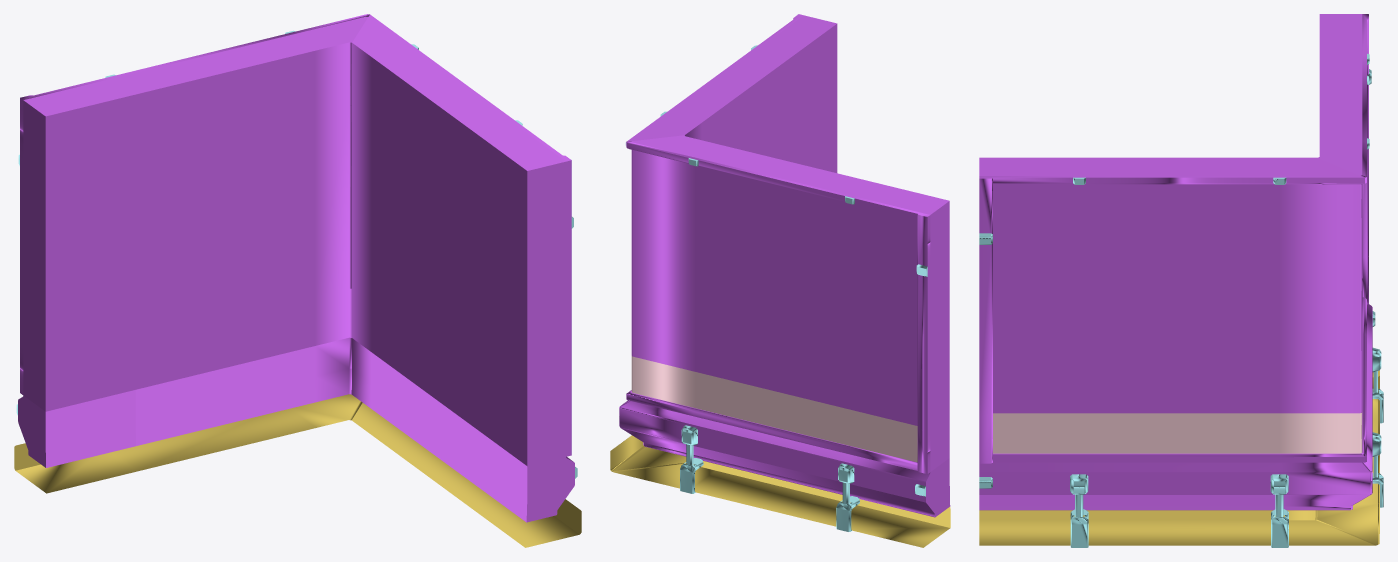
The model's file is roomslg_b_wall_corner_out_04x01x04_a.glb.
3 renders of one model, left to right at view 1: azimuth 30°, elevation 25°; view 2: azimuth 150°, elevation 25°; view 3: azimuth 270°, elevation 25°, orthographic. The views are drawn at different scales.
Size of the model in its own units: 4.04 by 4 by 4.04.
